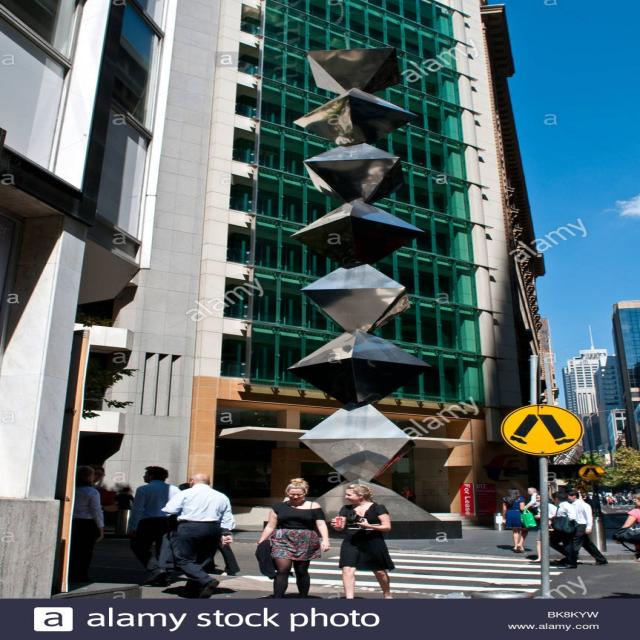body: (254, 476, 332, 600), (160, 473, 237, 598), (329, 483, 396, 599), (124, 466, 182, 586), (66, 465, 107, 585), (67, 465, 107, 580), (564, 489, 610, 567), (528, 491, 568, 564), (547, 491, 581, 570), (500, 487, 538, 554), (614, 493, 640, 557), (201, 542, 245, 576), (577, 488, 637, 507), (114, 486, 136, 525), (524, 487, 540, 512), (393, 484, 413, 502), (176, 482, 193, 491), (606, 495, 614, 506)
